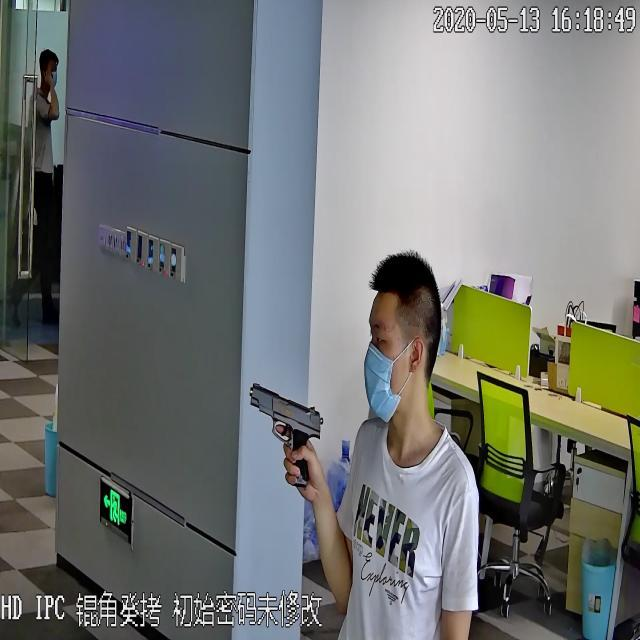gun: (247, 371, 327, 487)
